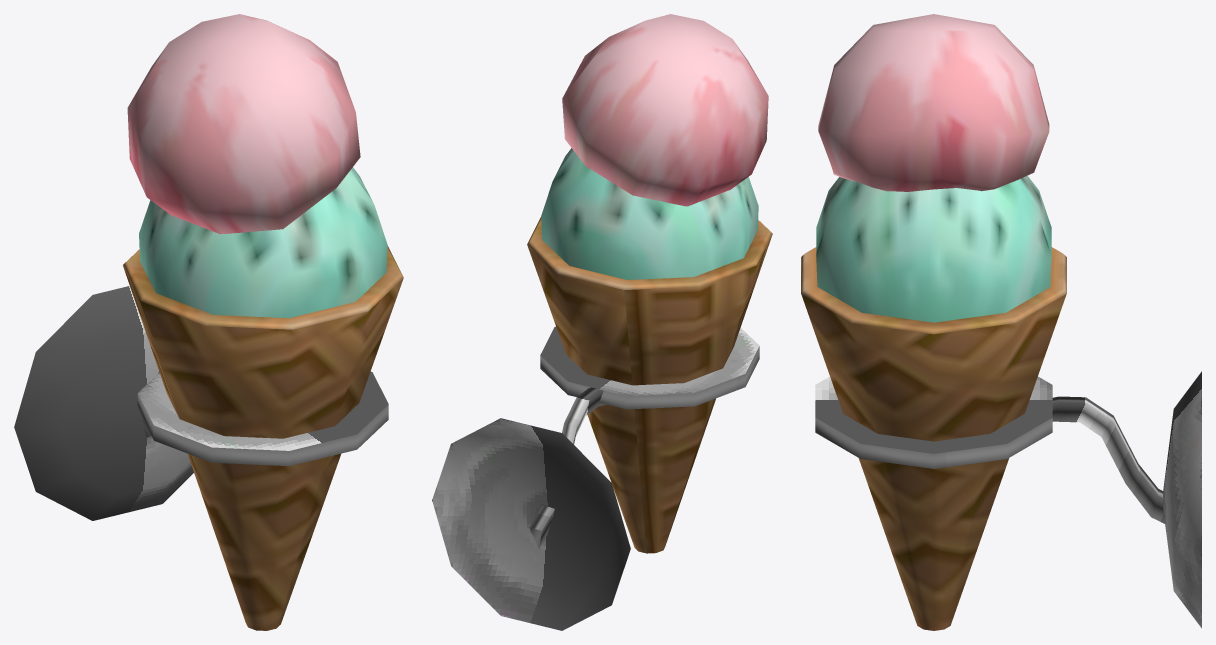
File: int_swt_lamp.dae
3 renders of one model, left to right at view 1: azimuth 30°, elevation 25°; view 2: azimuth 150°, elevation 25°; view 3: azimuth 270°, elevation 25°, orthographic. The views are drawn at different scales.
Parts seen in each view (by area): view 1: int_swt_lamp; view 2: int_swt_lamp; view 3: int_swt_lamp.
Boxes of the visible parts, x1,y1,x2,y2 form: int_swt_lamp: (14,14,403,630); int_swt_lamp: (432,14,772,630); int_swt_lamp: (801,14,1201,630).
Size of the model in its own units: 16.8 by 39.39 by 24.09.
2 materials, 2 textured.
